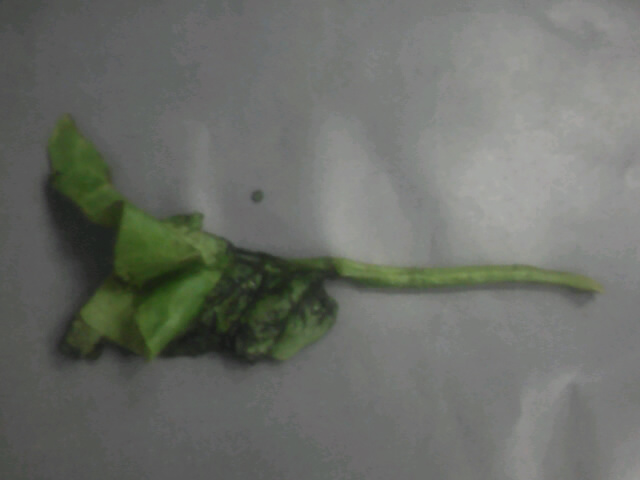yellow: (23, 119, 458, 380)
